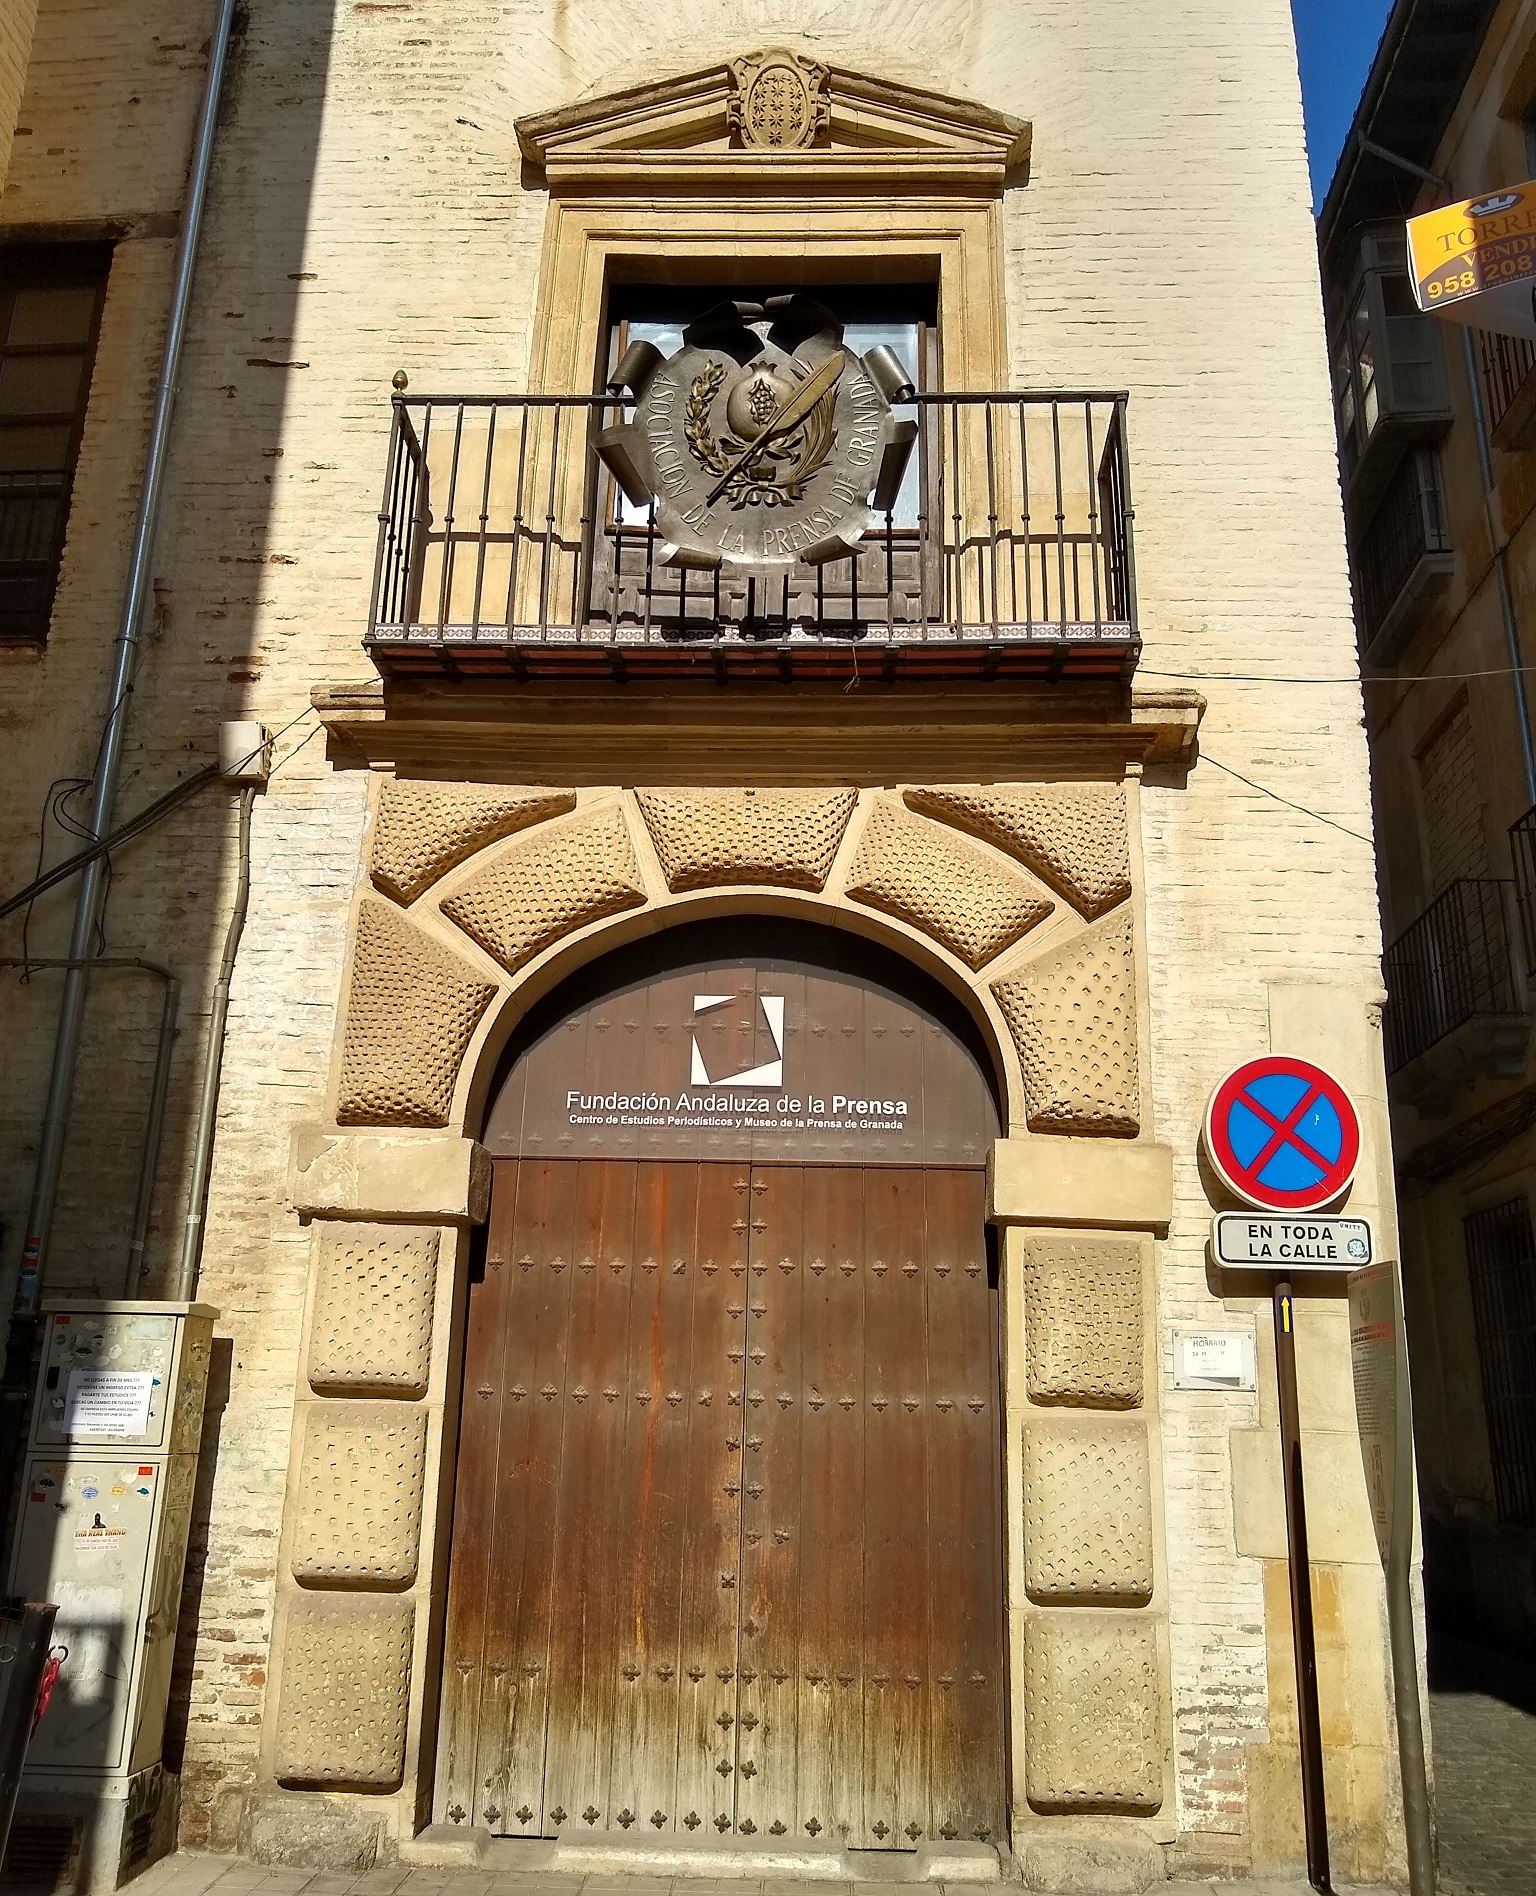arco-medio-punto: (437, 874, 1033, 1175)
fronton: (503, 42, 1056, 190)
